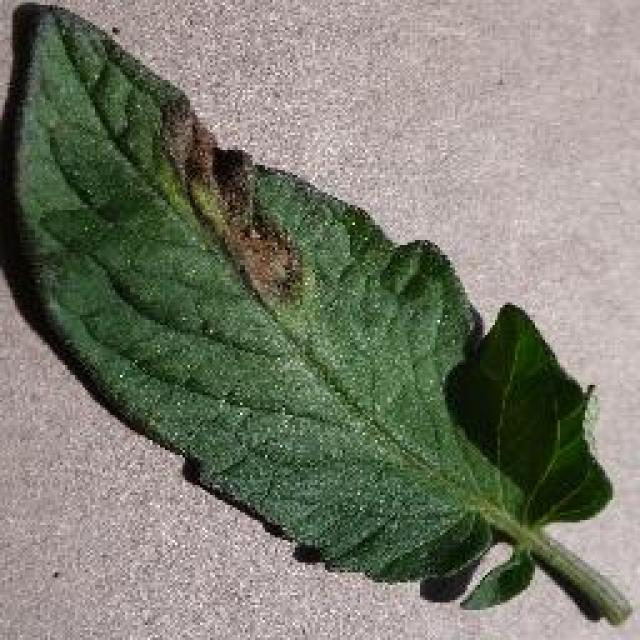leaf blight: (17, 5, 637, 620)
